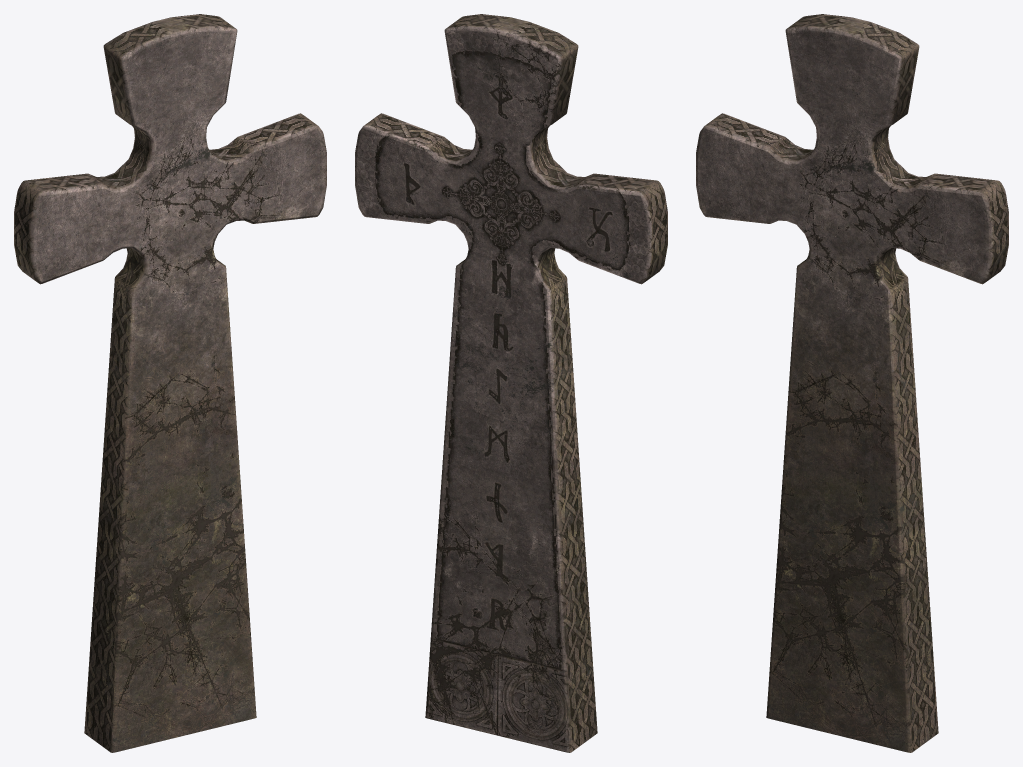
The model's file is SM_gravestone_42.fbx.
3 renders of one model, left to right at view 1: azimuth 30°, elevation 25°; view 2: azimuth 150°, elevation 25°; view 3: azimuth 330°, elevation 25°, orthographic.
Visible parts, largest first — view 1: SM_gravestone_042; view 2: SM_gravestone_042; view 3: SM_gravestone_042.
Boxes of the visible parts, x1=… form: SM_gravestone_042: x1=14, y1=14, x2=326, y2=752; SM_gravestone_042: x1=355, y1=14, x2=667, y2=752; SM_gravestone_042: x1=696, y1=14, x2=1008, y2=752.
Size of the model in its own units: 60.09 by 135 by 9.97.
